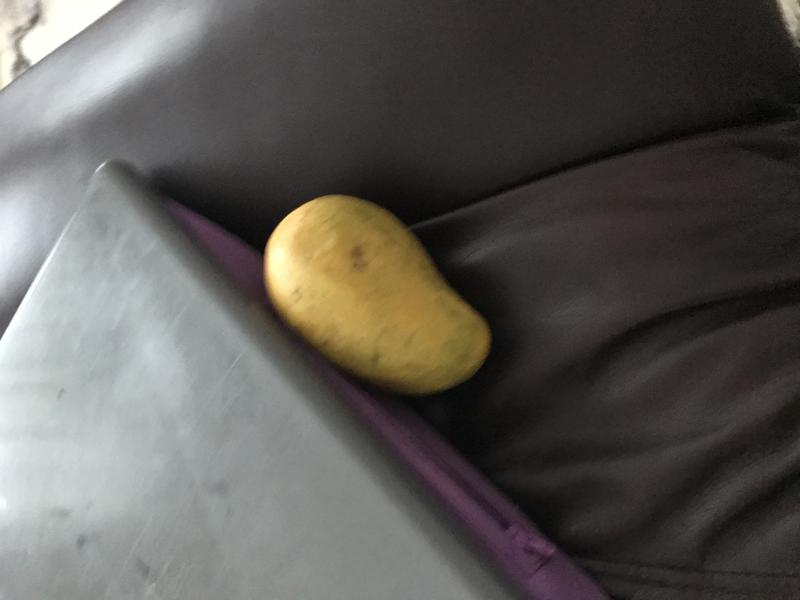mango: (250, 191, 504, 398)
